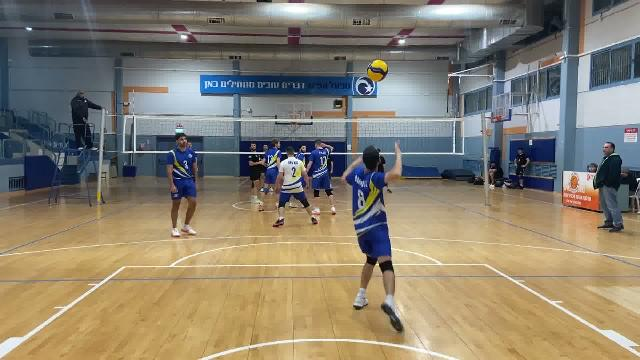ball: (364, 57, 389, 83)
